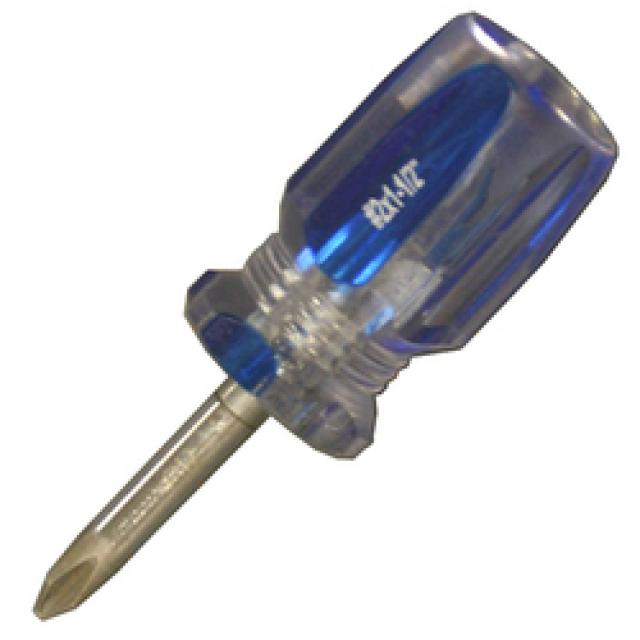screw_driver: (31, 13, 620, 625)
